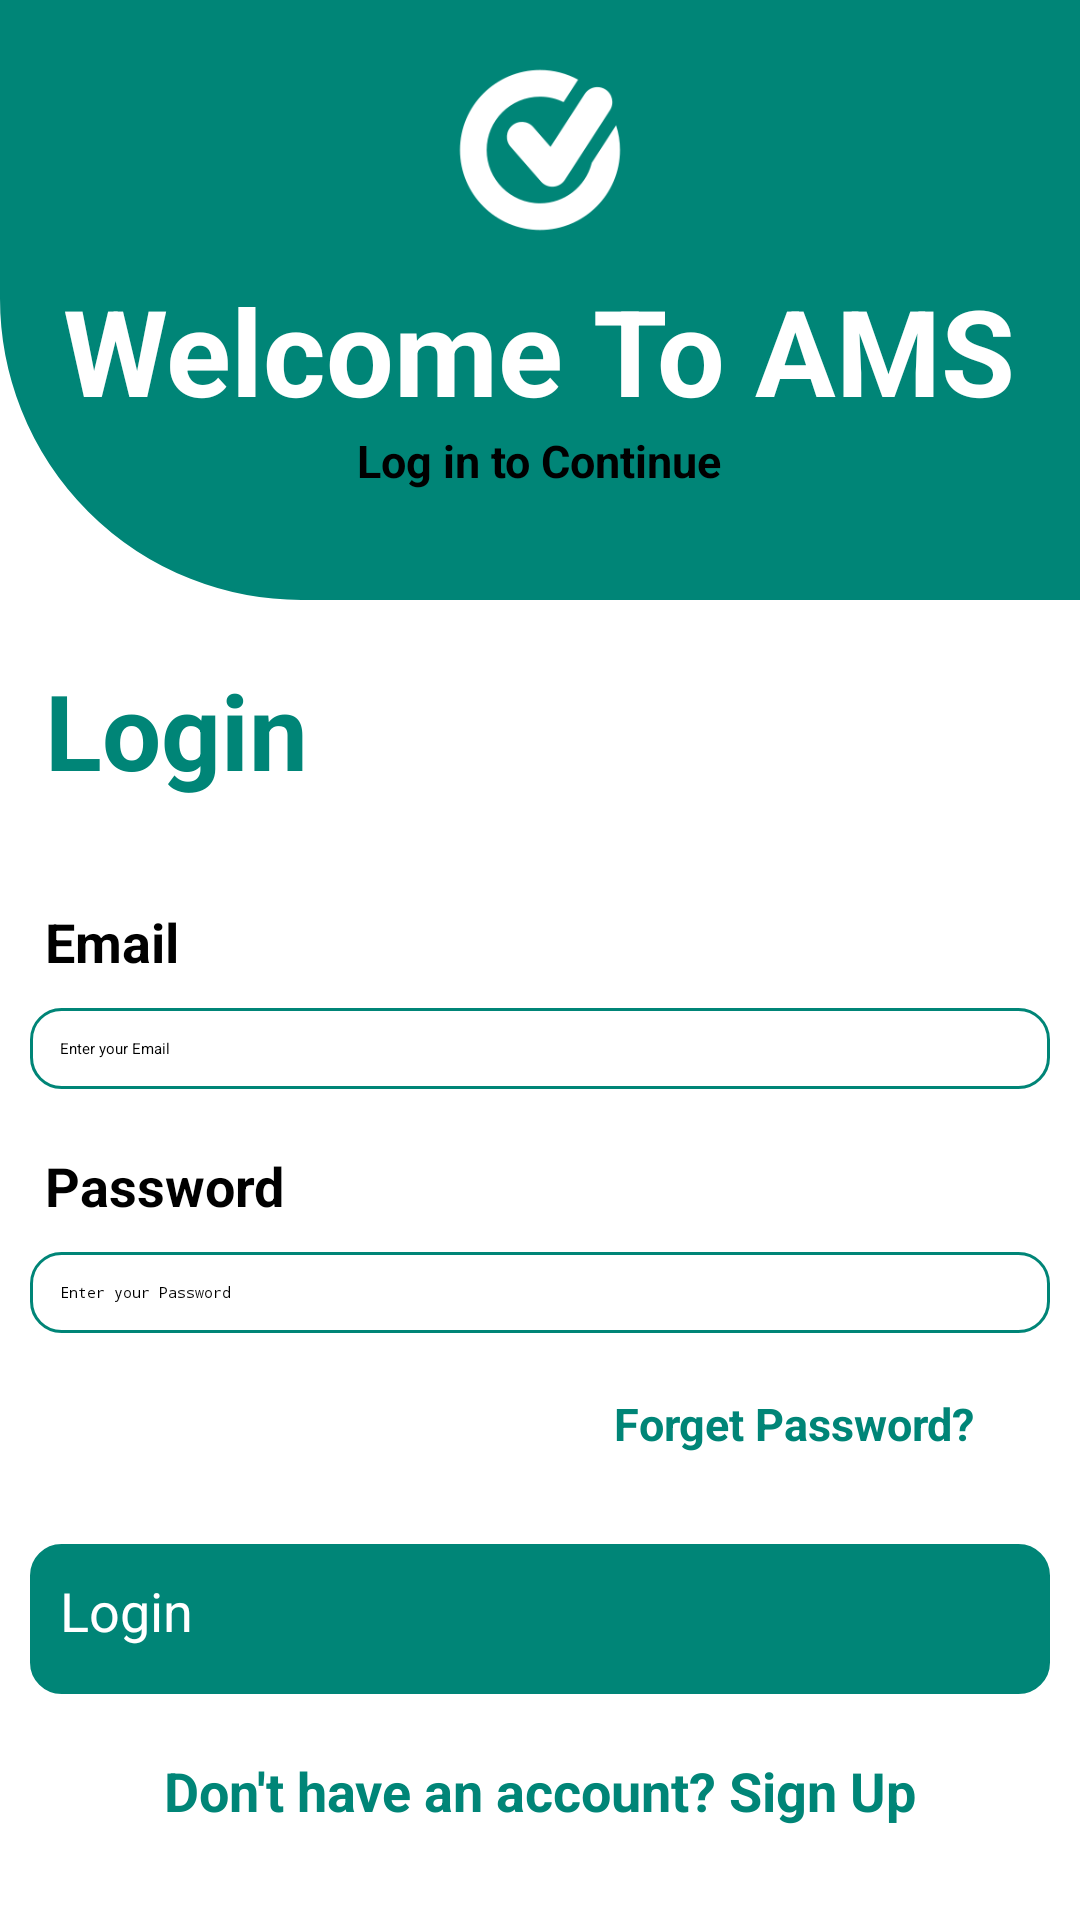

Locate icon controls on the screen. Image size 1080px x 1920px, boxes as (x1, y1, x2, y2).
tickwhite: (459, 69, 621, 231)
